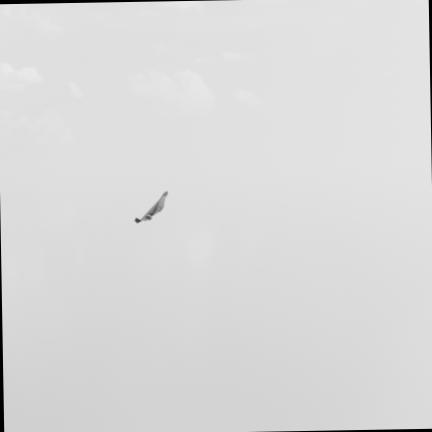Shahed: (135, 191, 167, 222)
